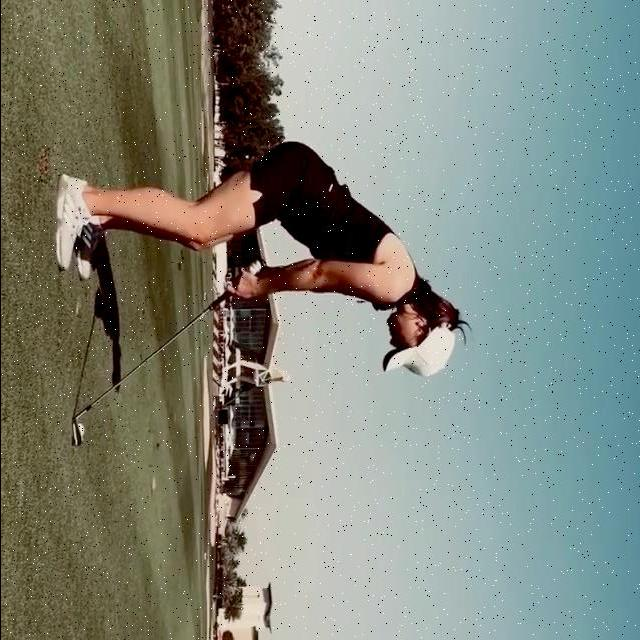golf ball: (76, 422, 84, 438)
golf club-handle: (67, 258, 267, 449)
golf club-head: (70, 423, 82, 449)
